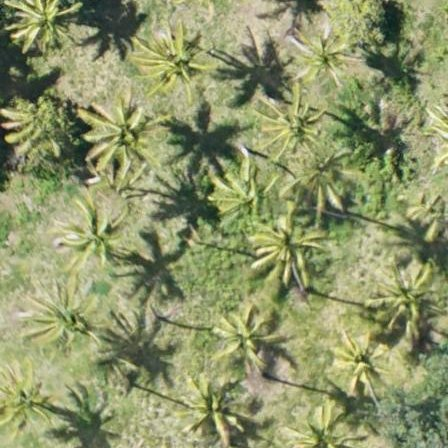palm_tree: (85, 97, 156, 173), (288, 18, 359, 93), (250, 209, 319, 283), (60, 192, 128, 265), (23, 277, 89, 347), (375, 261, 440, 330), (1, 87, 64, 158), (180, 372, 243, 439), (136, 21, 198, 87), (283, 150, 353, 205), (212, 165, 273, 224), (1, 364, 52, 431), (266, 94, 322, 154), (215, 303, 271, 362), (333, 333, 392, 389), (8, 1, 69, 50), (283, 407, 349, 448)
